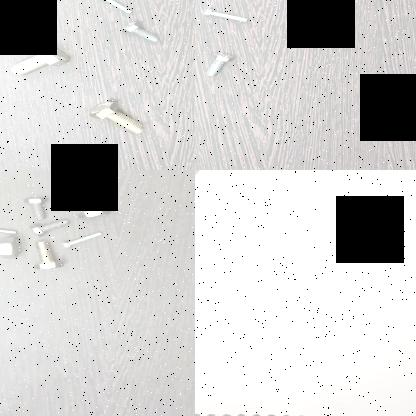Bolts: (3, 40, 76, 77), (85, 99, 153, 135), (70, 184, 118, 219), (118, 18, 162, 46), (32, 238, 62, 274), (202, 4, 250, 26), (200, 51, 238, 77), (29, 218, 74, 236), (21, 194, 49, 219), (90, 0, 135, 15), (0, 237, 25, 259), (0, 221, 20, 236)
